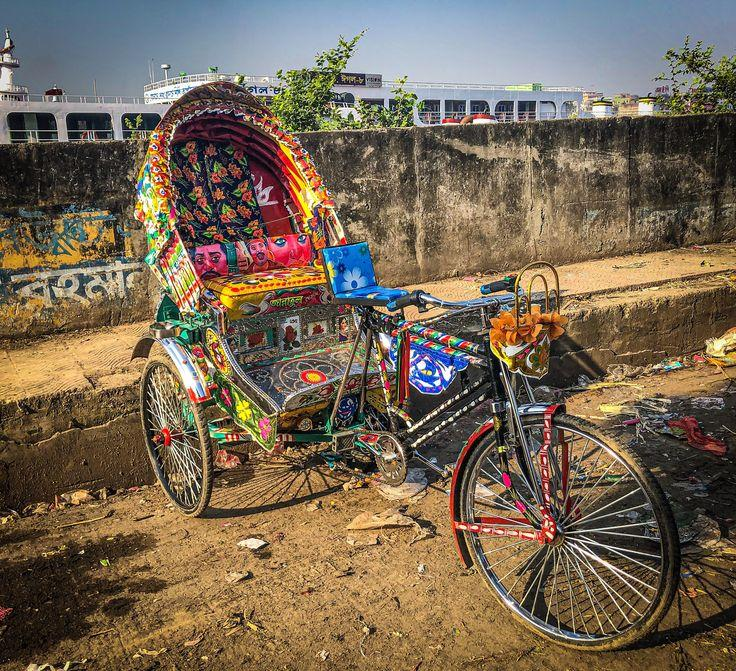Rickshaw: (132, 83, 679, 649)
